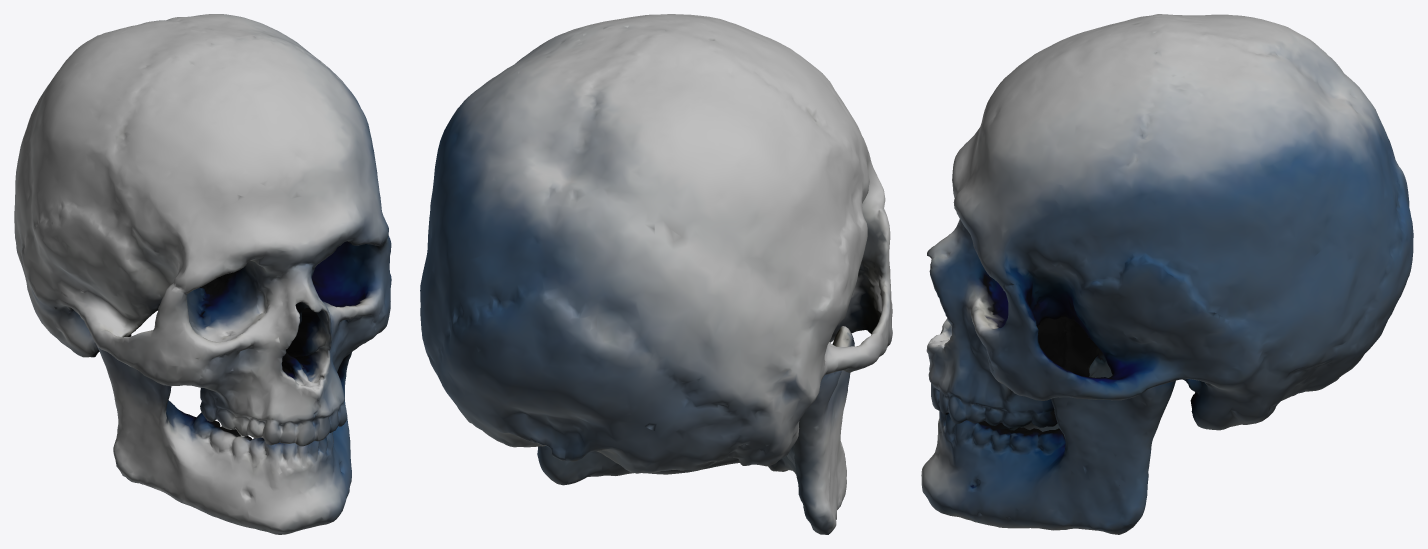
The model's file is skully2.glb.
3 views of the same model, side by side, from view 1: azimuth 30°, elevation 25°; view 2: azimuth 150°, elevation 25°; view 3: azimuth 270°, elevation 25° (orthographic). The views are drawn at different scales.
Visible parts, largest first — view 1: test; view 2: test; view 3: test.
Part boxes in pixels (left/top/right/bottom): test: left=14, top=14, right=391, bottom=534; test: left=420, top=14, right=892, bottom=534; test: left=921, top=14, right=1413, bottom=534.
Size of the model in its own units: 23.77 by 30.48 by 29.02.
